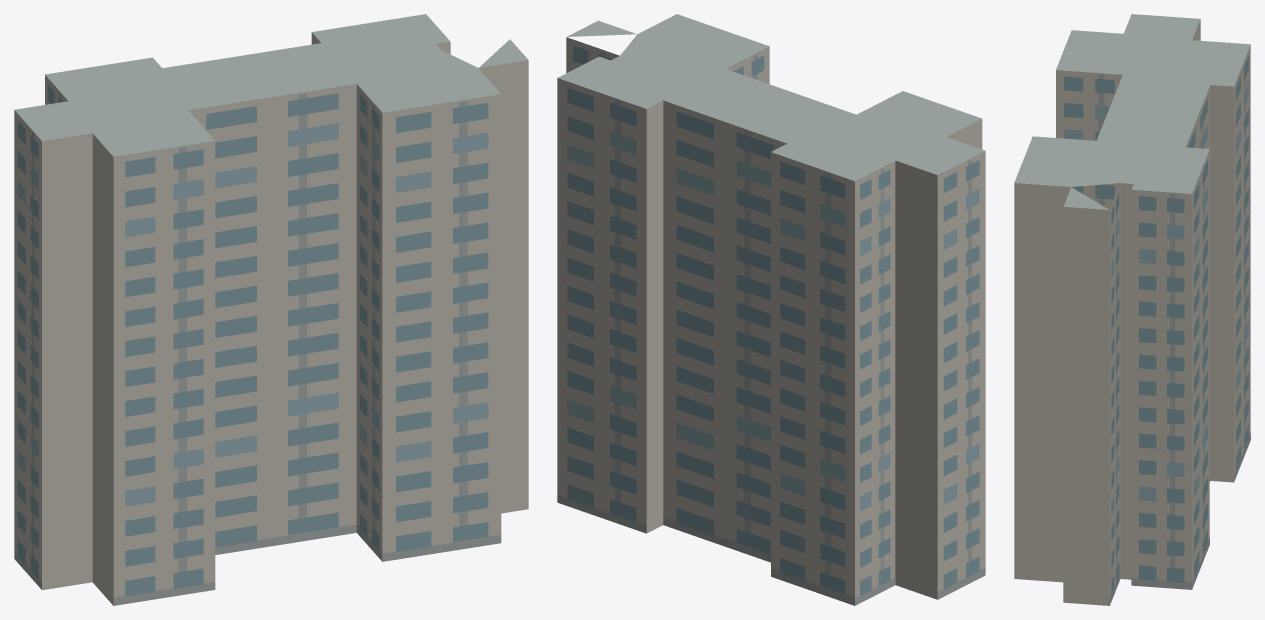
The model's file is residential-b69d9d5e-5d7c-4b4a-b5a5-c10c5cb5938d.glb.
The picture shows the model from 3 angles, left to right: view 1: azimuth 30°, elevation 25°; view 2: azimuth 150°, elevation 25°; view 3: azimuth 270°, elevation 25°; orthographic projection. The views are drawn at different scales.
Parts seen in each view (by area): view 1: residential-b69d9d5e-5d7c-4b4a-b5a5-c10c5cb5938d.tmp; view 2: residential-b69d9d5e-5d7c-4b4a-b5a5-c10c5cb5938d.tmp; view 3: residential-b69d9d5e-5d7c-4b4a-b5a5-c10c5cb5938d.tmp.
Part boxes in pixels (<box>): residential-b69d9d5e-5d7c-4b4a-b5a5-c10c5cb5938d.tmp: <box>14,14,528,605</box>; residential-b69d9d5e-5d7c-4b4a-b5a5-c10c5cb5938d.tmp: <box>557,14,985,605</box>; residential-b69d9d5e-5d7c-4b4a-b5a5-c10c5cb5938d.tmp: <box>1014,14,1250,605</box>.
Size of the model in its own units: 69.03 by 65 by 35.22.
